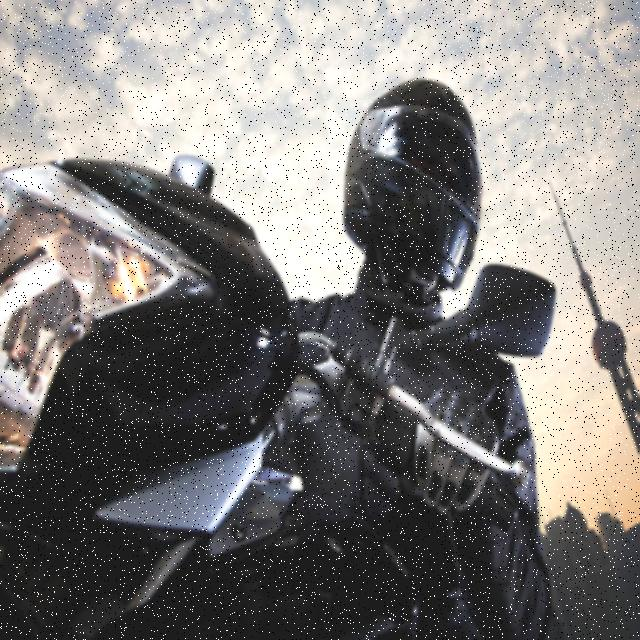not_triplets: (0, 0, 582, 640)
with-helmet: (342, 61, 484, 296)
